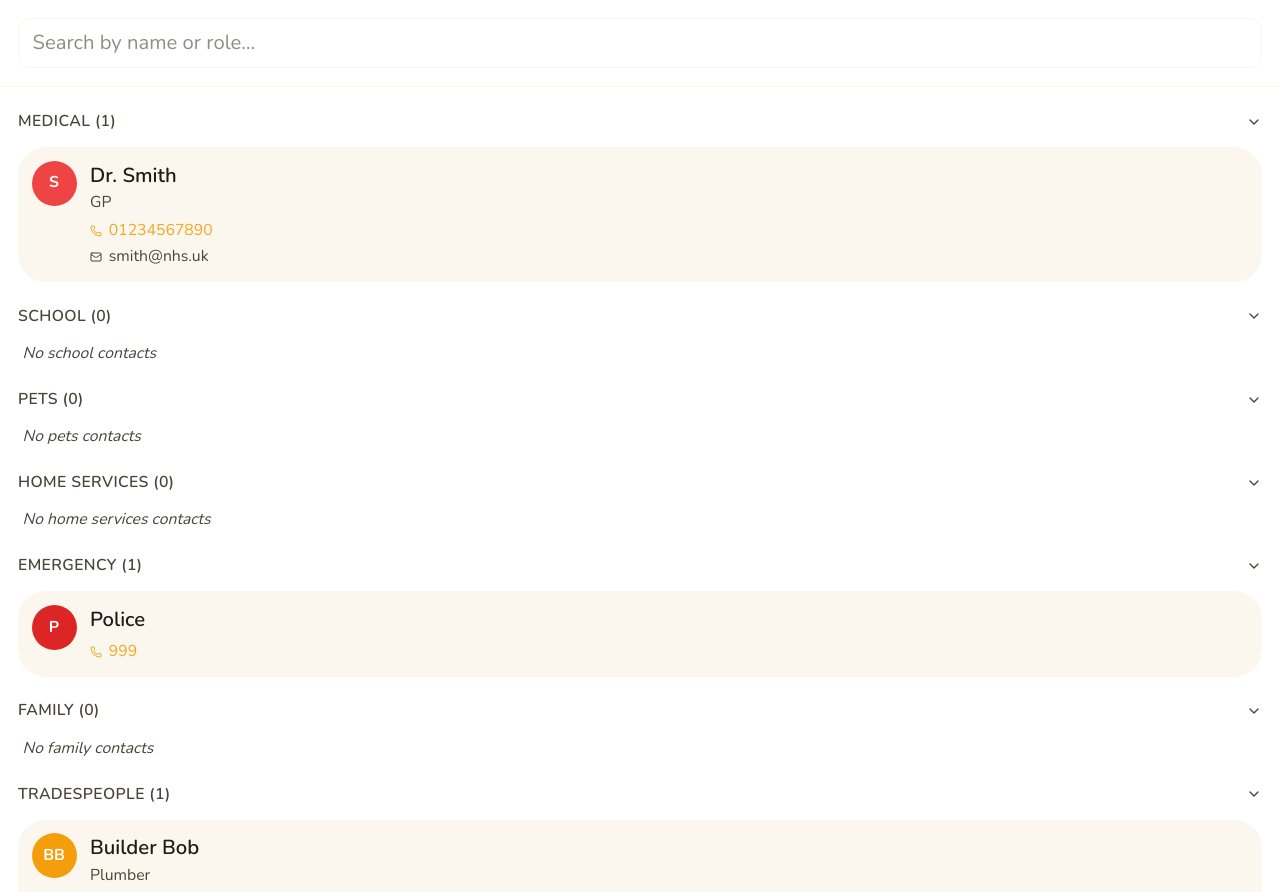
Test: ContactsList › search filters contacts by name
The width and height of the screenshot is (1280, 892).
Expected: the text "Dr. Smith" is shown, [90,162,177,188]
Step 1. Type "Police" into the search field → (640, 43), box [18,18,1262,68]
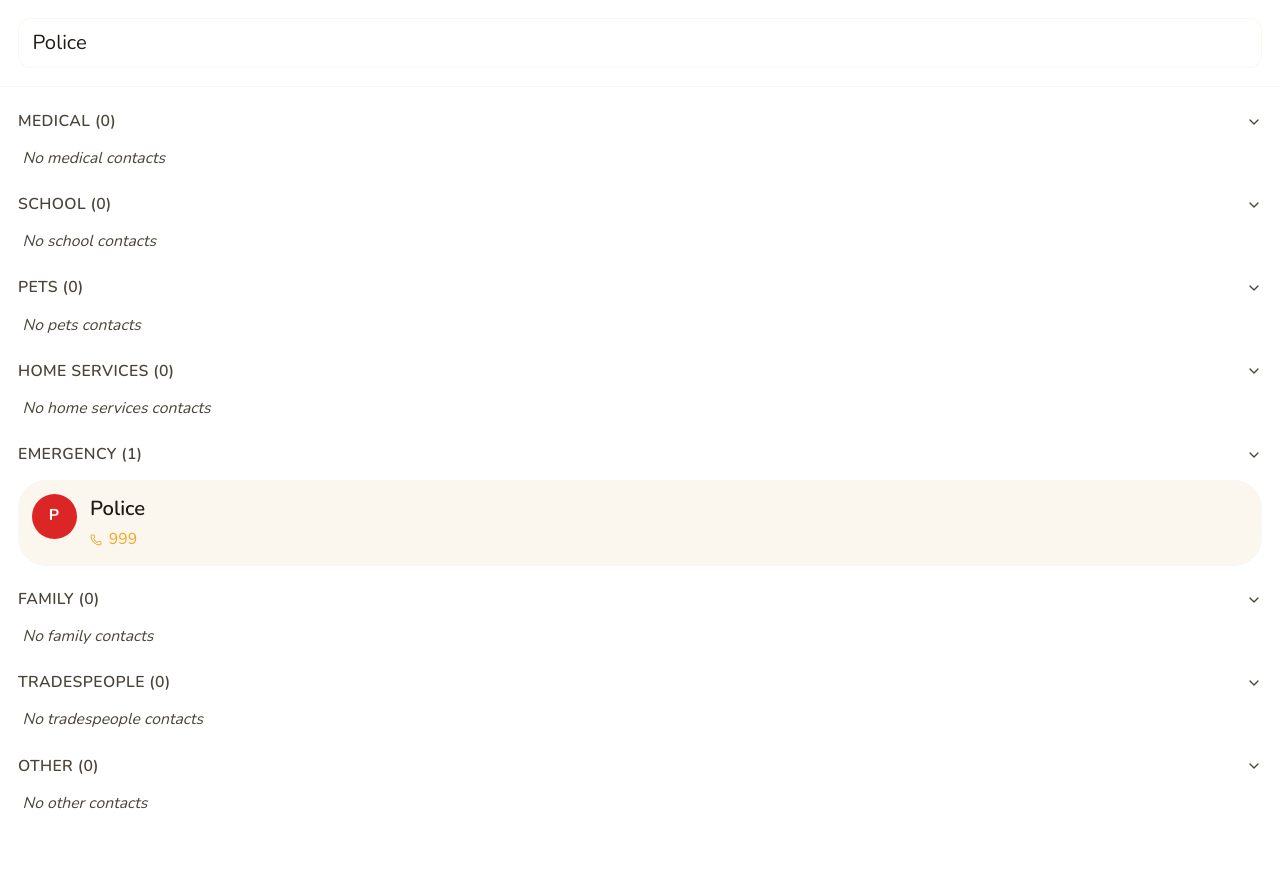
Now the text "Dr. Smith" is gone
